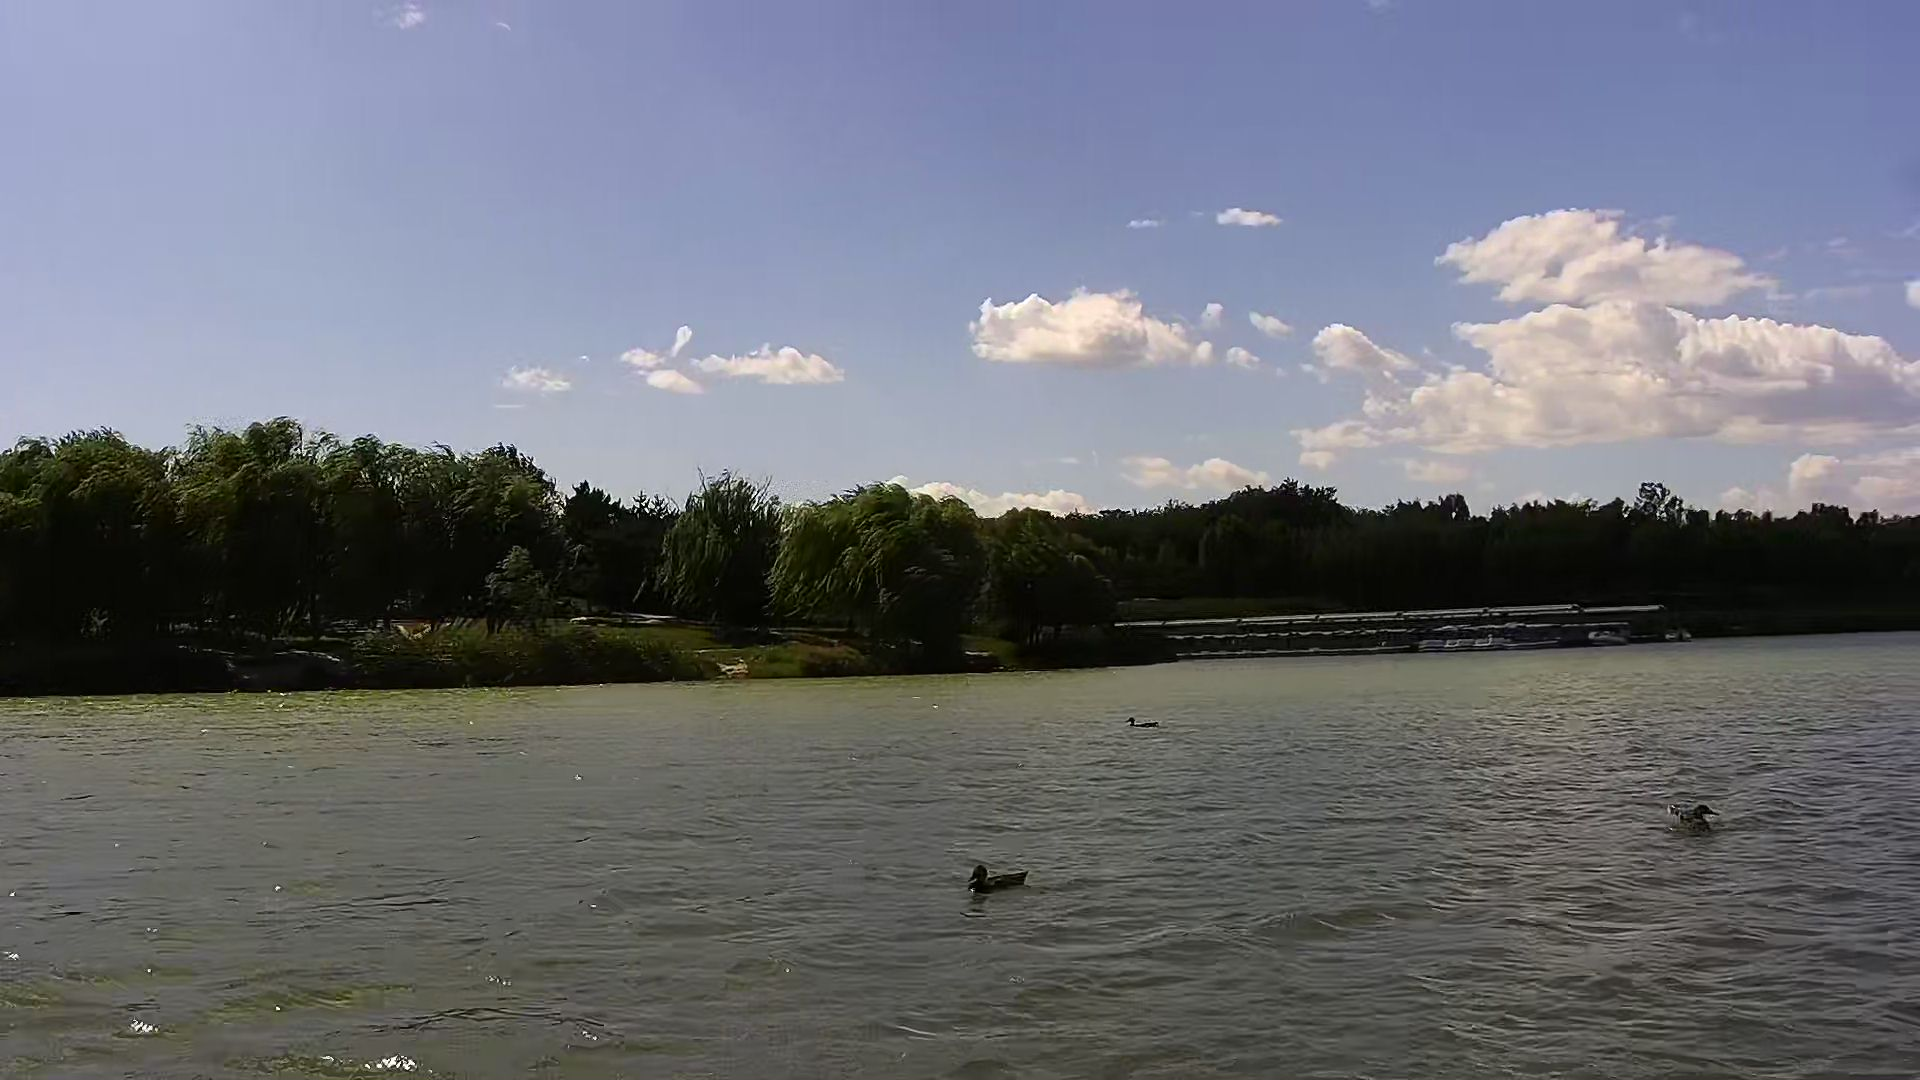animal: (971, 860, 1029, 889), (1673, 800, 1712, 837), (1125, 713, 1160, 737)
harbor: (1174, 607, 1662, 645)
rock: (717, 659, 748, 676)
